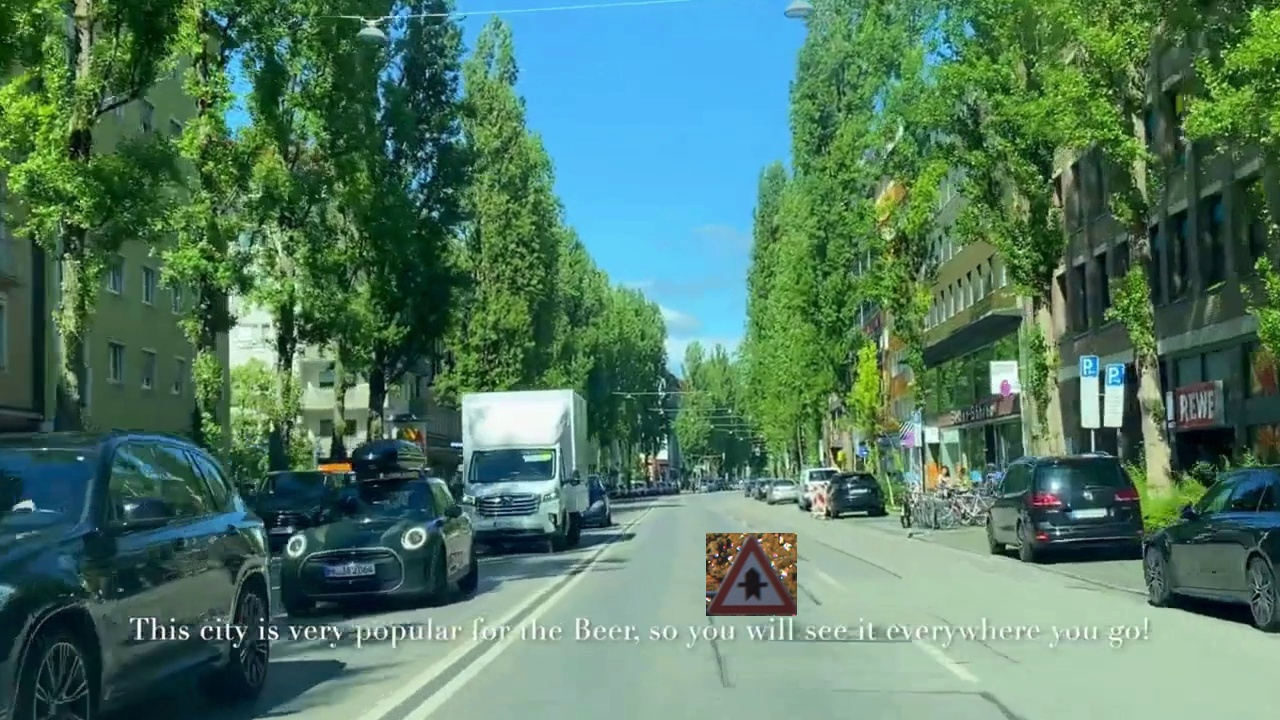Right-of-way: (706, 533, 797, 616)
